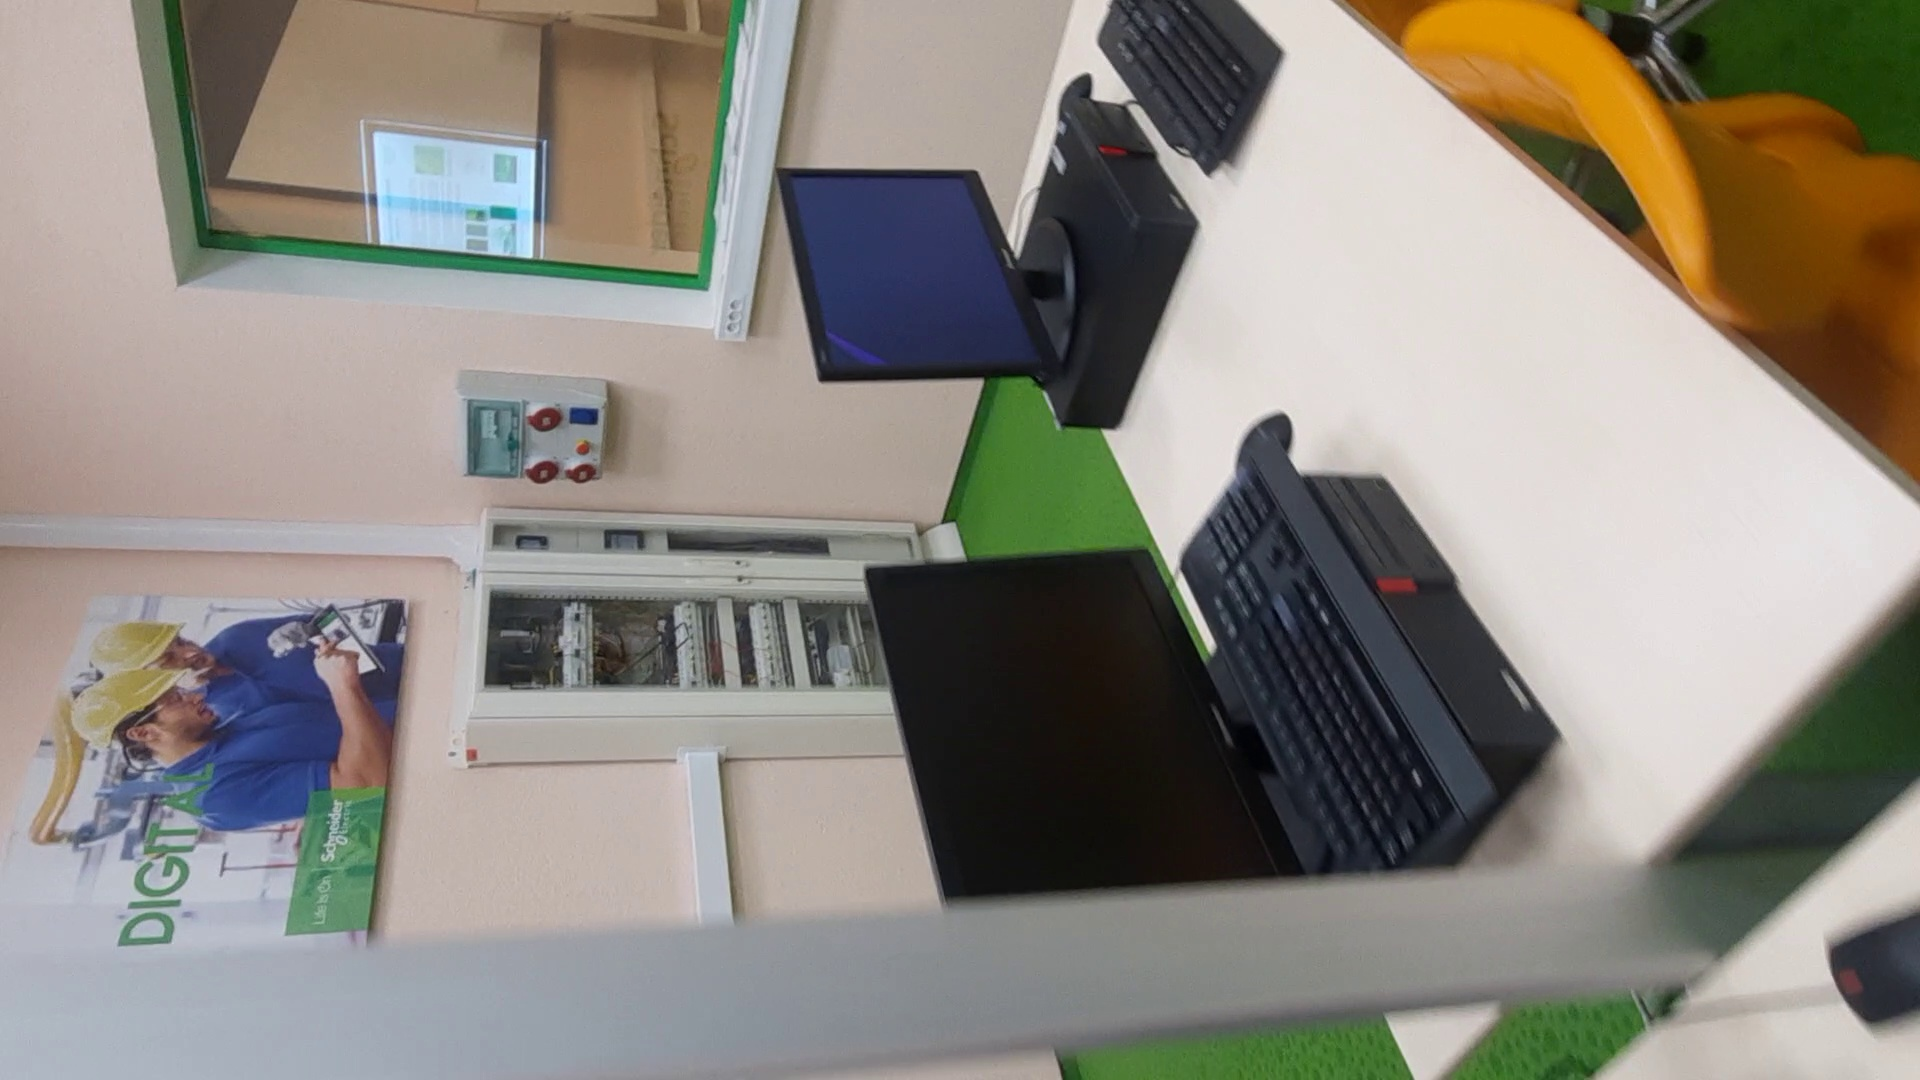stand1: (458, 487, 869, 756)
